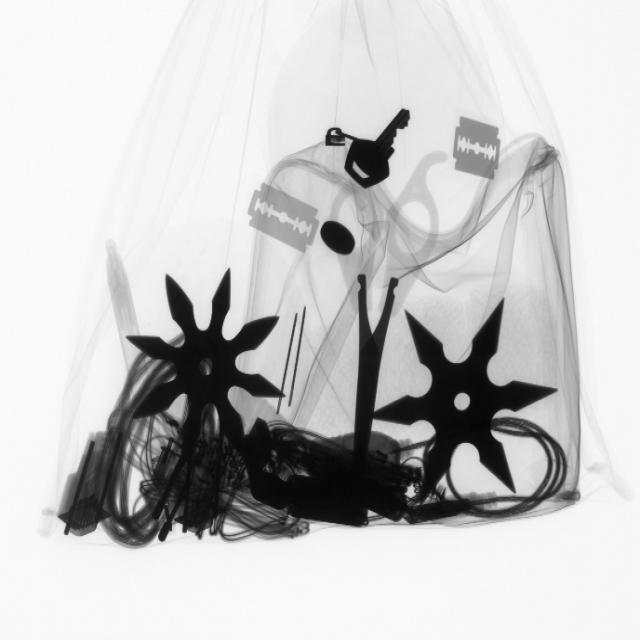BLADE: (245, 178, 326, 260), (450, 109, 511, 187)
SHURIKEN: (382, 296, 552, 502), (130, 265, 291, 472)
